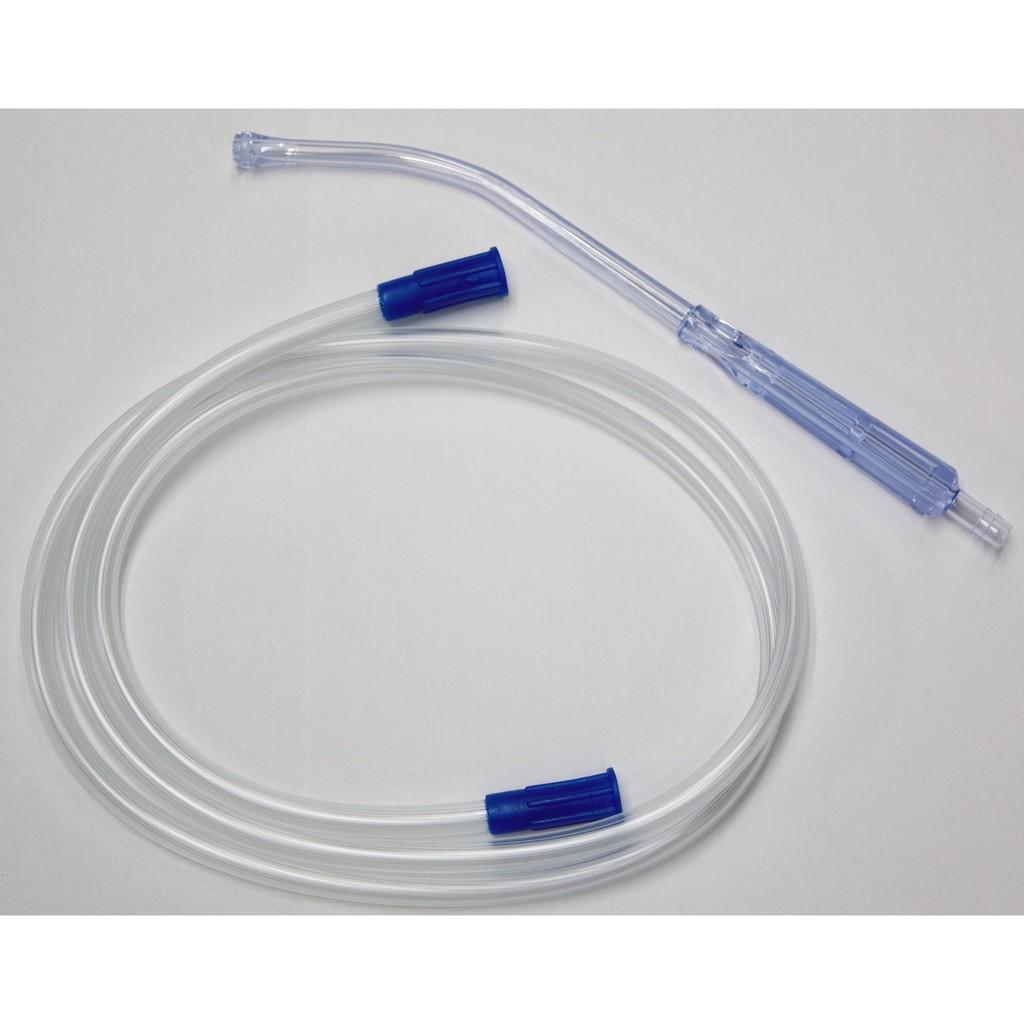Suction Tube Nozzle: (10, 129, 1010, 903)
